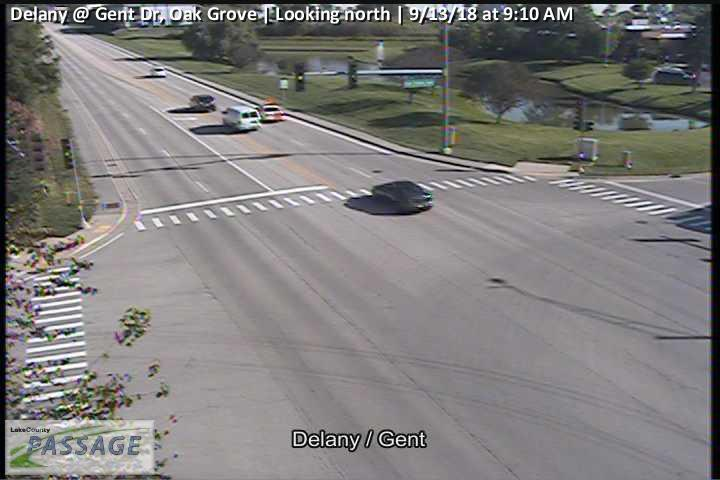SUV: (224, 104, 261, 131), (190, 94, 216, 111), (258, 104, 281, 121)
Sedan: (372, 180, 434, 212), (152, 67, 165, 78)
